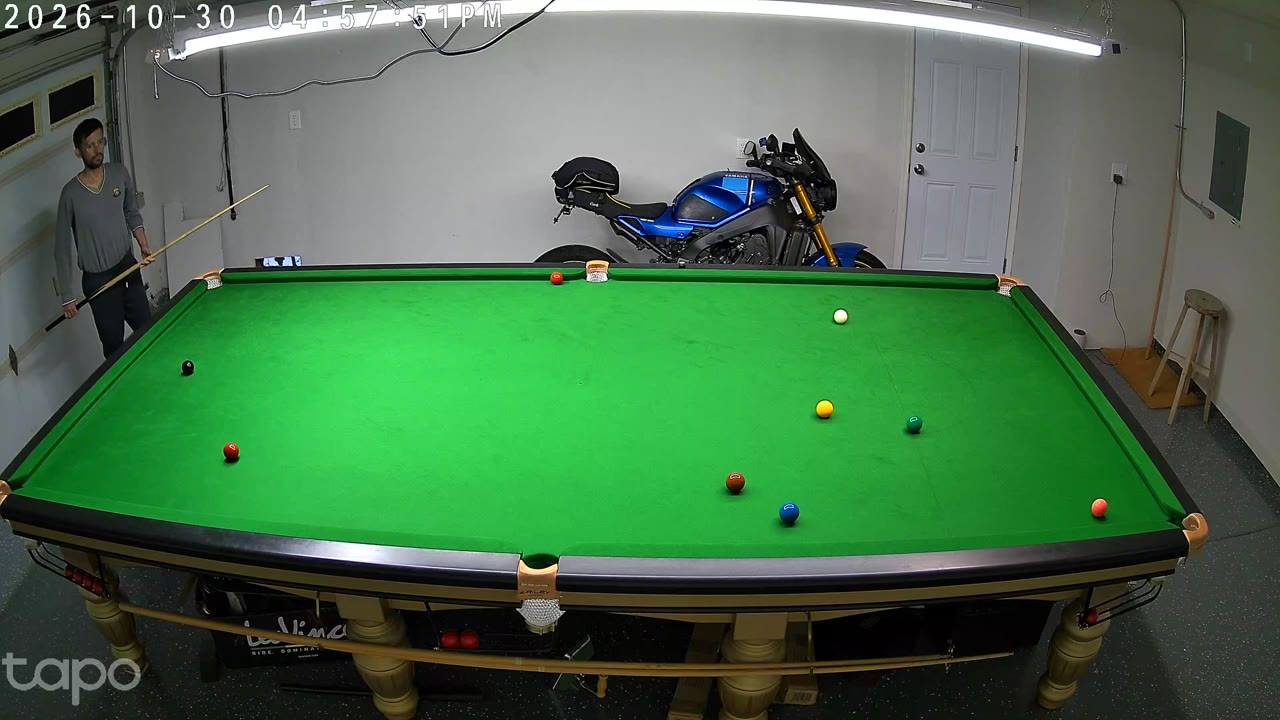black: (182, 358, 194, 378)
blue: (779, 500, 799, 528)
brown: (726, 471, 745, 497)
green: (906, 414, 922, 436)
red: (1091, 496, 1107, 521), (223, 441, 239, 464), (551, 271, 562, 288)
white: (834, 307, 847, 326)
yellow: (816, 400, 832, 420)
